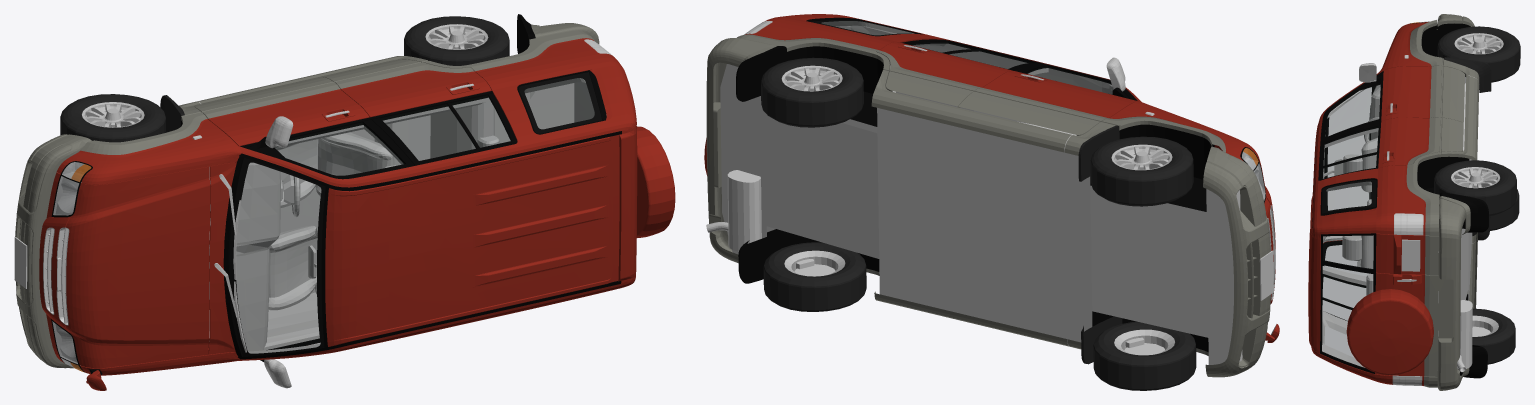
File: car.obj
The picture shows the model from 3 angles, left to right: view 1: azimuth 30°, elevation 25°; view 2: azimuth 150°, elevation 25°; view 3: azimuth 270°, elevation 25°; orthographic projection. The views are drawn at different scales.
Visible parts, largest first — view 1: car; view 2: car; view 3: car.
Boxes of the visible parts, x1,y1,x2,y2 form: car: (14,14,675,390); car: (704,14,1279,390); car: (1308,14,1520,390).
Bounding box in the file's own units: 4.8 × 2.06 × 1.89.
